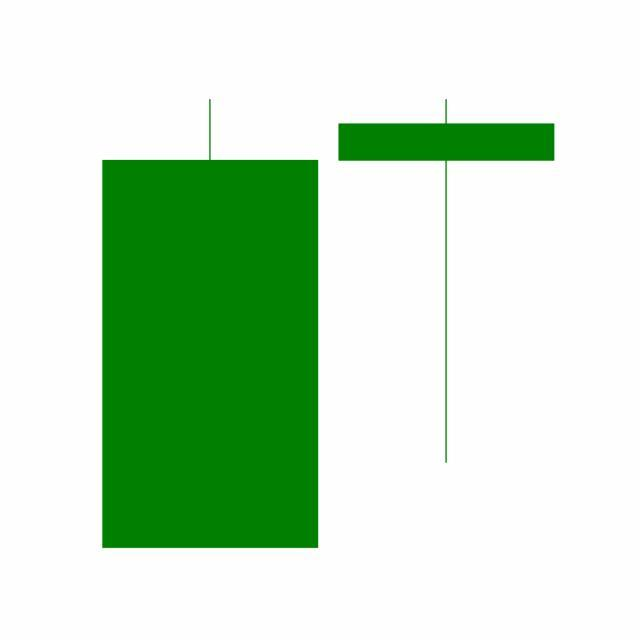Dragonfly Doji: (328, 95, 566, 467)
